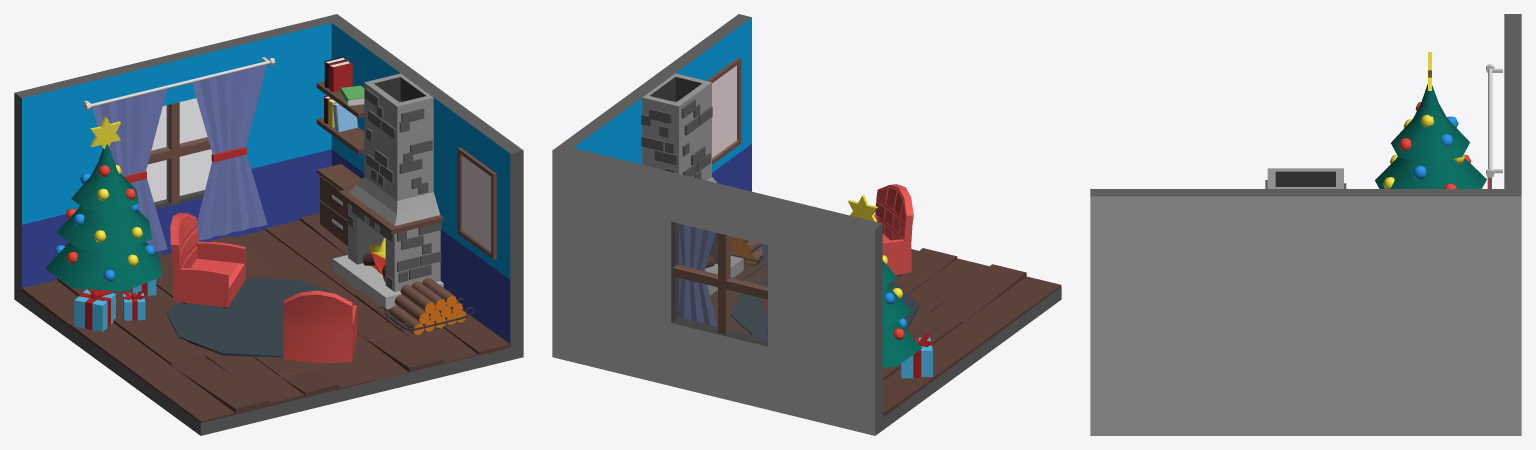
File: Diorama.fbx
3 views of the same model, side by side, from view 1: azimuth 30°, elevation 25°; view 2: azimuth 150°, elevation 25°; view 3: azimuth 270°, elevation 25° (orthographic). The views are drawn at different scales.
Parts seen in each view (by area): view 1: Room, Floor, Fireplace, Christmas_tree, Curtain2, Rug, Chair1, Chair2, Curtain1, Glass, Picture, Wood (+9 smaller); view 2: Room, Floor, Glass, Fireplace, Christmas_tree, Chair2, Picture, Curtain2, Window, Rug, Present1, Wood; view 3: Room, Christmas_tree, Fireplace, Curtain_rod.
Part boxes in pixels (box(x1,y1,x2,y2)): Room: box(14, 14, 523, 435); Floor: box(22, 213, 510, 422); Fireplace: box(332, 73, 443, 309); Christmas_tree: box(45, 116, 162, 298); Curtain2: box(192, 64, 267, 240); Rug: box(166, 277, 343, 357); Chair1: box(170, 212, 245, 308); Chair2: box(283, 290, 356, 362); Curtain1: box(92, 89, 167, 251); Glass: box(146, 98, 212, 205); Picture: box(457, 147, 496, 259); Wood: box(389, 278, 466, 334); Room: box(552, 14, 1061, 435); Floor: box(710, 248, 1061, 417); Glass: box(675, 223, 767, 341); Fireplace: box(641, 73, 743, 295); Christmas_tree: box(848, 195, 922, 367); Chair2: box(874, 184, 913, 276); Picture: box(706, 57, 741, 164); Curtain2: box(679, 223, 717, 326); Window: box(673, 233, 767, 334); Rug: box(730, 280, 918, 336); Present1: box(899, 334, 932, 378); Wood: box(730, 236, 763, 264); Room: box(1090, 14, 1521, 435); Christmas_tree: box(1375, 52, 1486, 188); Fireplace: box(1265, 168, 1346, 188); Curtain_rod: box(1486, 64, 1502, 177).
Size of the model in its own units: 400 by 245 by 400.
